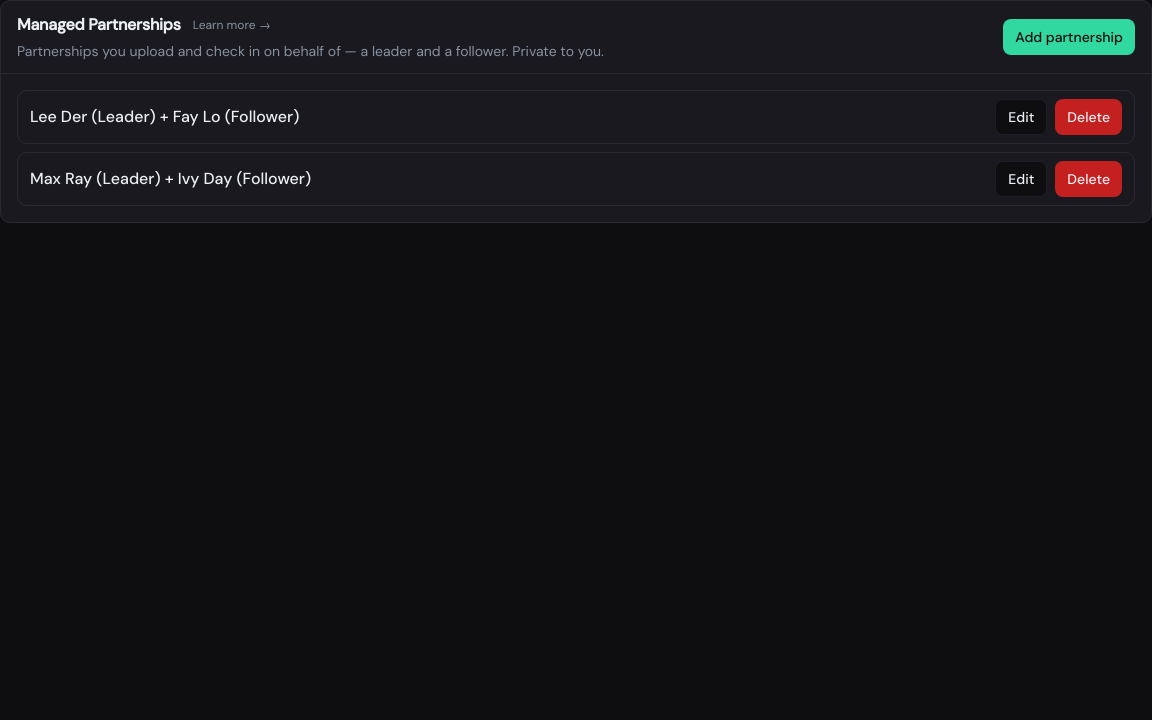
Test case: ManagedPartnershipsSection — managing partnerships › deletes a partnership after confirmation
Expected: the text "Lee Der (Leader) + Fay Lo (Follower)" is shown, top-left (30, 105), bottom-right (299, 129)
Click the button "Delete" in the row of "Max Ray (Leader) + Ivy Day (Follower)".
click(1089, 179)  # box top-left (1055, 161), bottom-right (1122, 197)
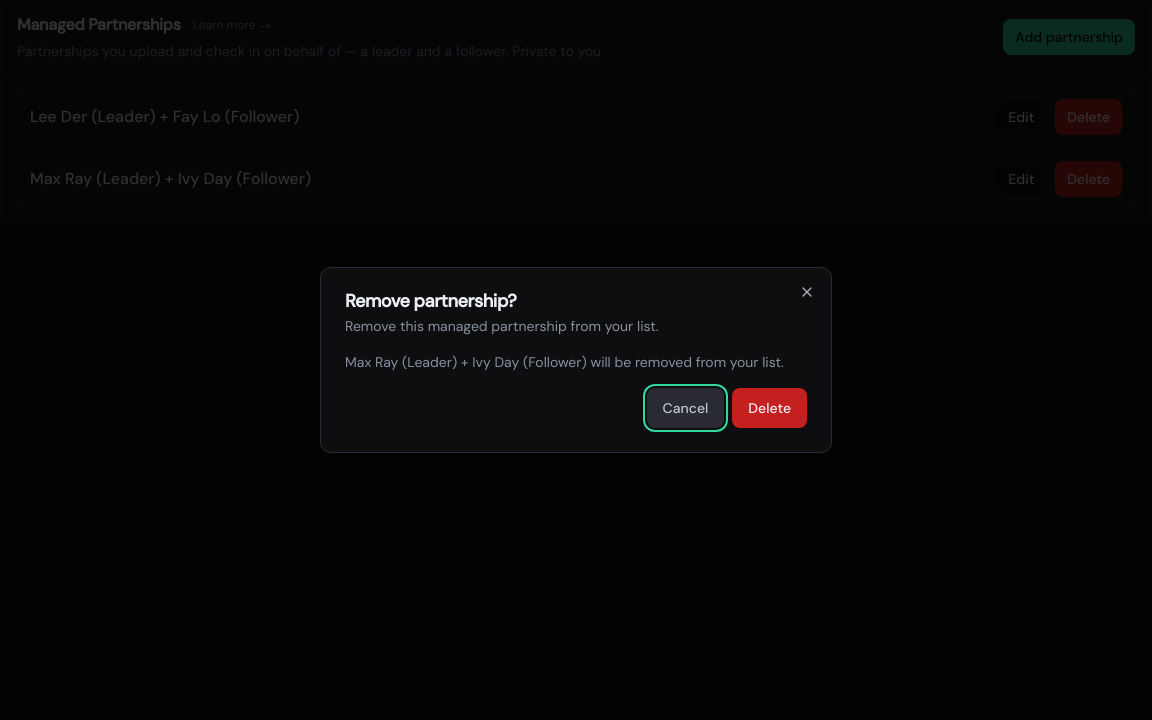
Click the button "Delete".
click(770, 408)  # box top-left (732, 388), bottom-right (807, 428)
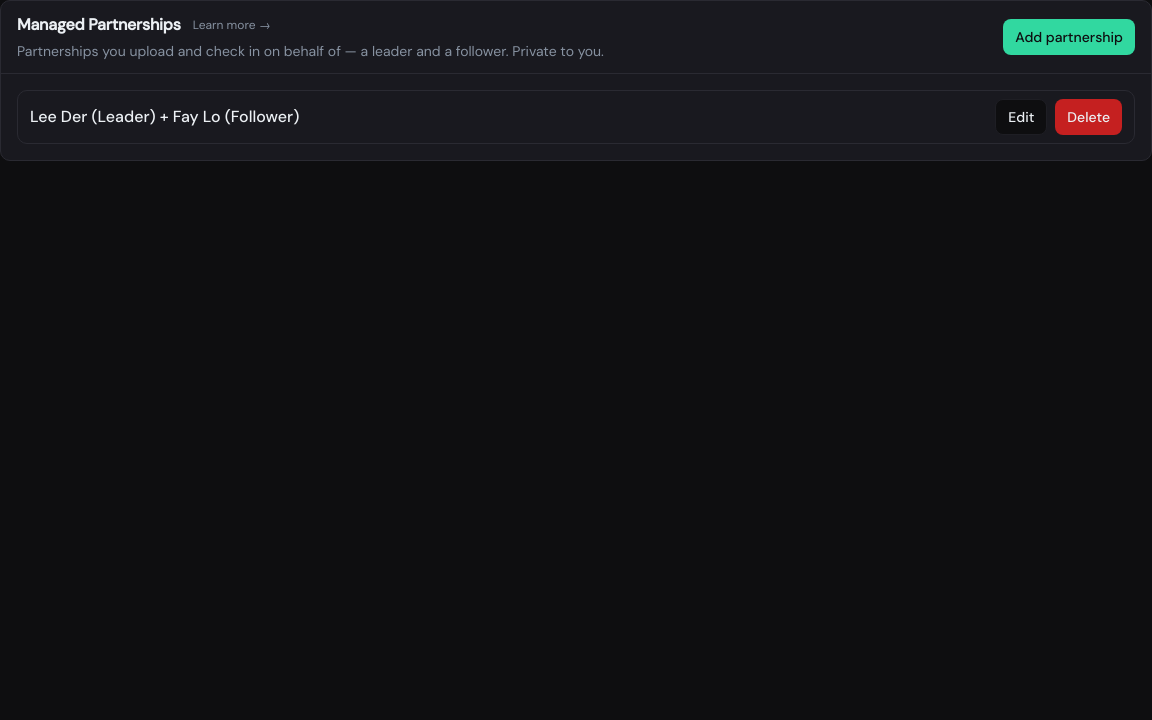
Expected: the text "Lee Der (Leader) + Fay Lo (Follower)" is shown, top-left (30, 105), bottom-right (299, 129)
Expected: the text "Max Ray (Leader) + Ivy Day (Follower)" is gone
